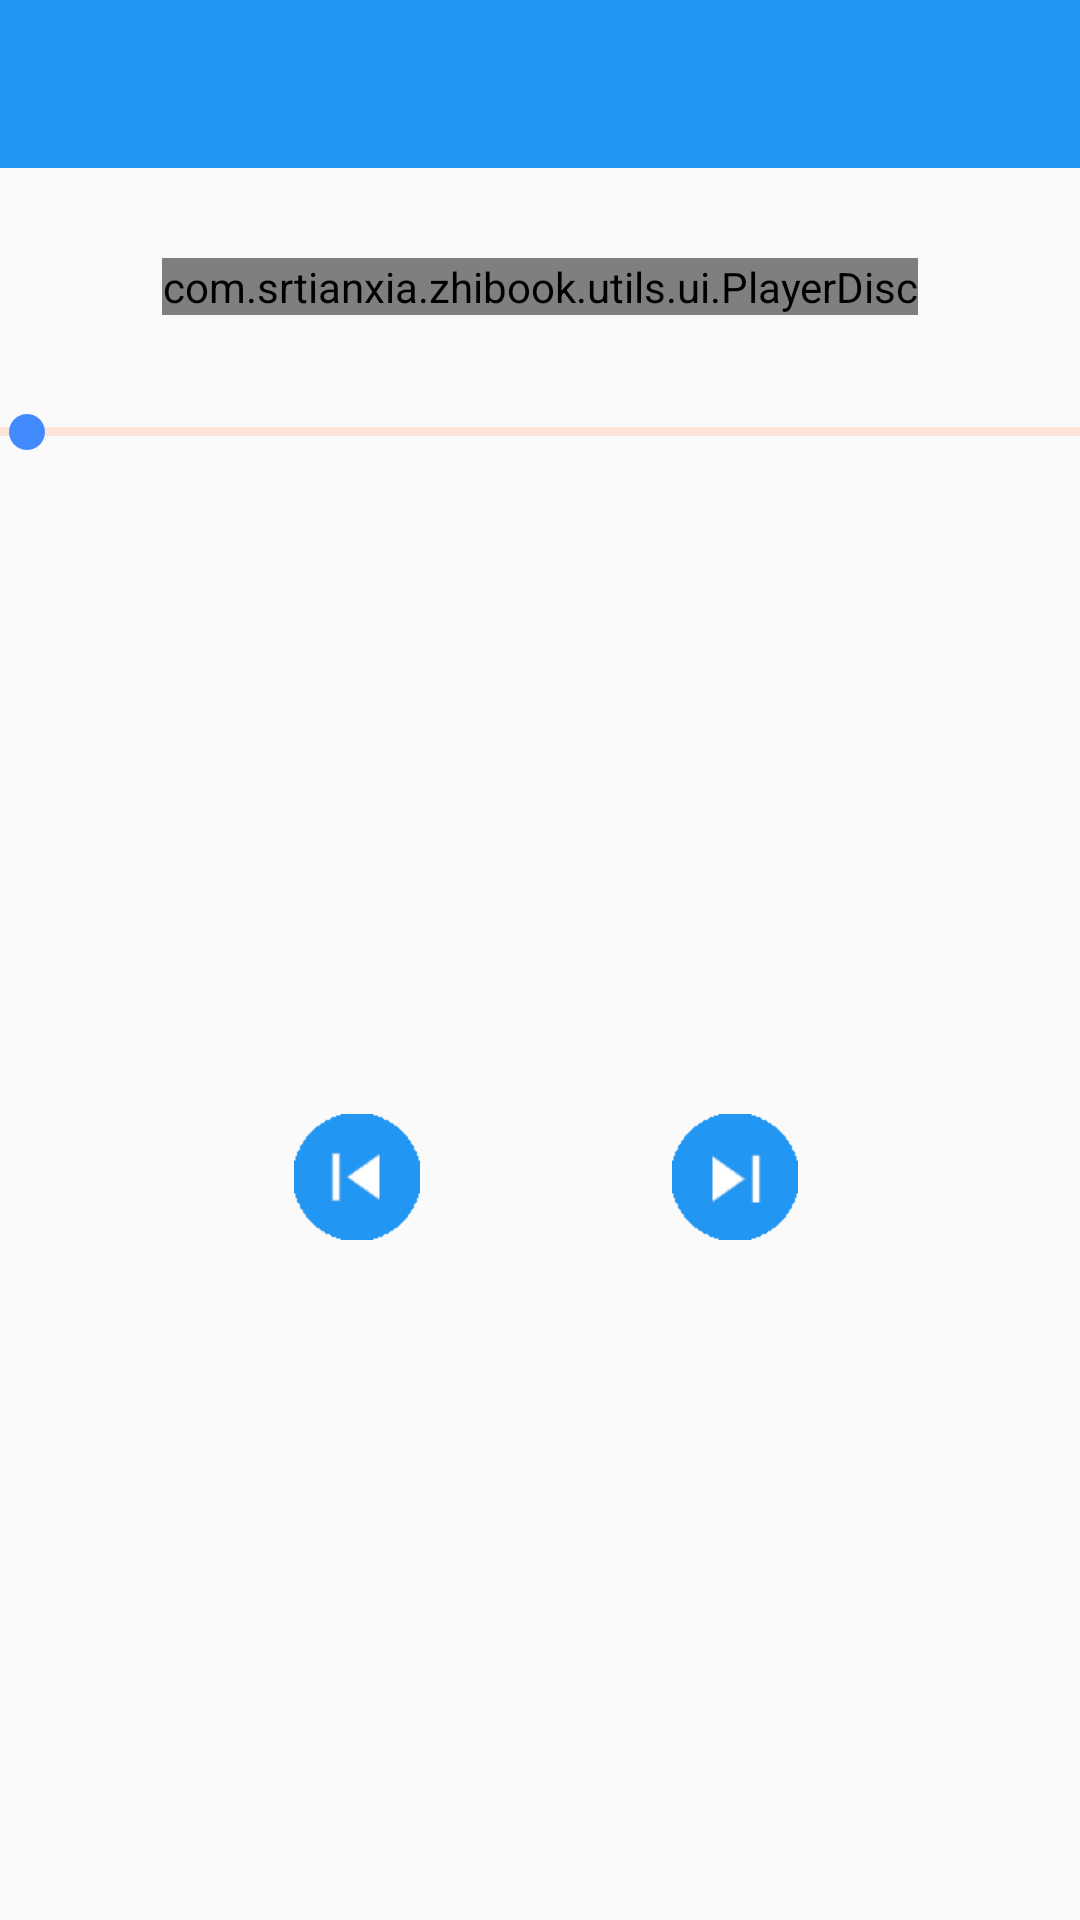

Icon click points for this 1080px x 1920px phone screenshot, format [x,y]:
next play: [735,1177]
prev play: [357,1177]
